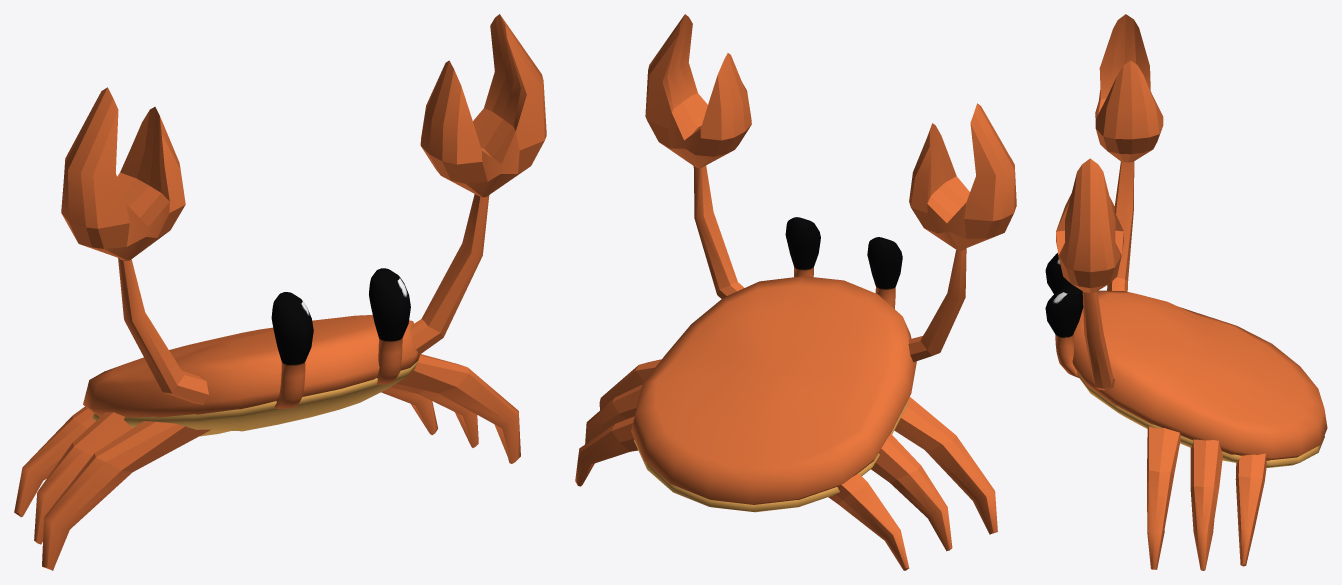
Rendered from Krab_Bullethell_BPLW.fbx.
3 views of the same model, side by side, from view 1: azimuth 30°, elevation 25°; view 2: azimuth 150°, elevation 25°; view 3: azimuth 270°, elevation 25° (orthographic). The views are drawn at different scales.
Parts seen in each view (by area): view 1: pCube11; view 2: pCube11; view 3: pCube11.
Part boxes in pixels (x1,y1,x2,y2): pCube11: (14, 14, 546, 570); pCube11: (575, 14, 1016, 570); pCube11: (1045, 14, 1327, 570).
Bounding box in the file's own units: 6.44 × 6.46 × 4.15.
1 material, 1 textured.
